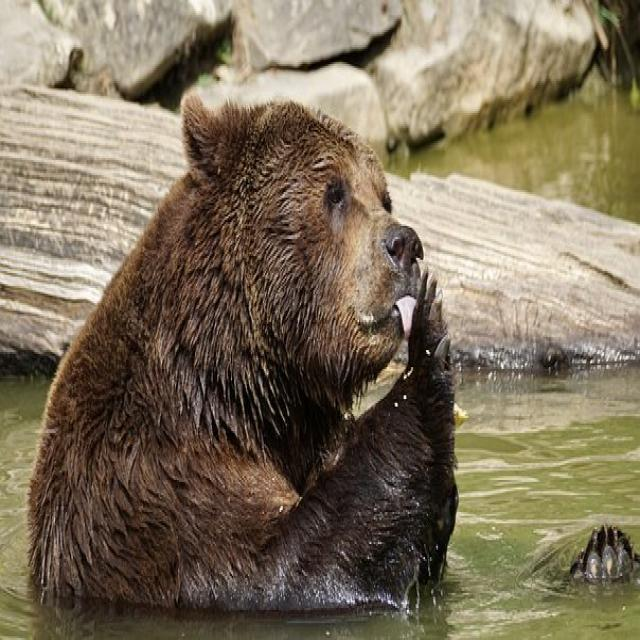Bear: (26, 88, 460, 621)
